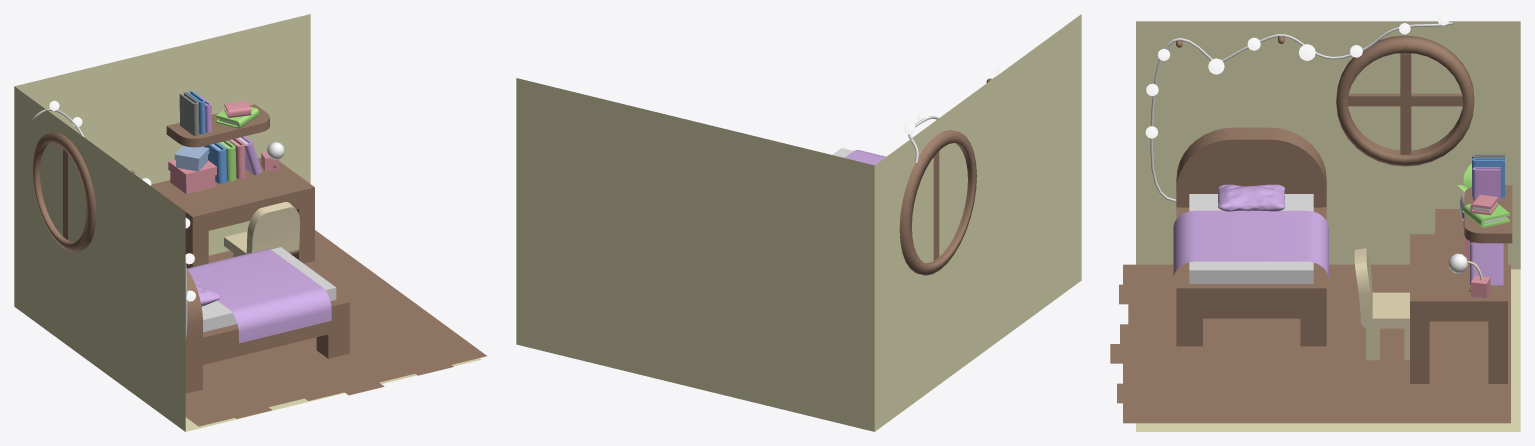
The model's file is bedroom_01.glb.
The picture shows the model from 3 angles, left to right: view 1: azimuth 30°, elevation 25°; view 2: azimuth 150°, elevation 25°; view 3: azimuth 270°, elevation 25°; orthographic projection. The views are drawn at different scales.
Visible parts, largest first — view 1: Cube, Cube.001, Cube.004, Cube.006, Cube.002, Cube.008, Cylinder, Cube.011, Cube.003, Cube.020, Cube.014, Cube.012 (+4 smaller); view 2: Cube, Cylinder, Cube.017; view 3: Cube, Cube.001, Cube.002, Cube.006, Cube.004, Cylinder, Cube.003, Cube.008, Cube.005, Cube.025, Cube.011, BezierCurve.001 (+9 smaller).
Boxes of the visible parts, x1,y1,x2,y2 form: Cube: [14, 14, 481, 431]; Cube.001: [185, 230, 487, 426]; Cube.004: [187, 249, 331, 343]; Cube.006: [151, 158, 314, 268]; Cube.002: [185, 268, 349, 393]; Cube.008: [224, 202, 300, 255]; Cylinder: [32, 132, 96, 252]; Cube.011: [166, 104, 269, 147]; Cube.003: [201, 247, 336, 332]; Cube.020: [179, 92, 199, 135]; Cube.014: [168, 160, 216, 182]; Cube.012: [204, 143, 227, 183]; Cube: [516, 14, 1081, 431]; Cylinder: [899, 130, 976, 275]; Cube.017: [933, 151, 939, 260]; Cube: [1136, 21, 1520, 431]; Cube.001: [1110, 264, 1510, 423]; Cube.002: [1176, 127, 1326, 346]; Cube.006: [1410, 234, 1507, 383]; Cube.004: [1173, 210, 1328, 278]; Cylinder: [1336, 35, 1474, 166]; Cube.003: [1189, 194, 1313, 283]; Cube.008: [1354, 248, 1409, 328]; Cube.005: [1218, 184, 1285, 211]; Cube.025: [1347, 93, 1463, 106]; Cube.011: [1464, 185, 1512, 243]; BezierCurve.001: [1150, 22, 1452, 201].
Size of the model in its own units: 4.13 by 2.96 by 4.27.
